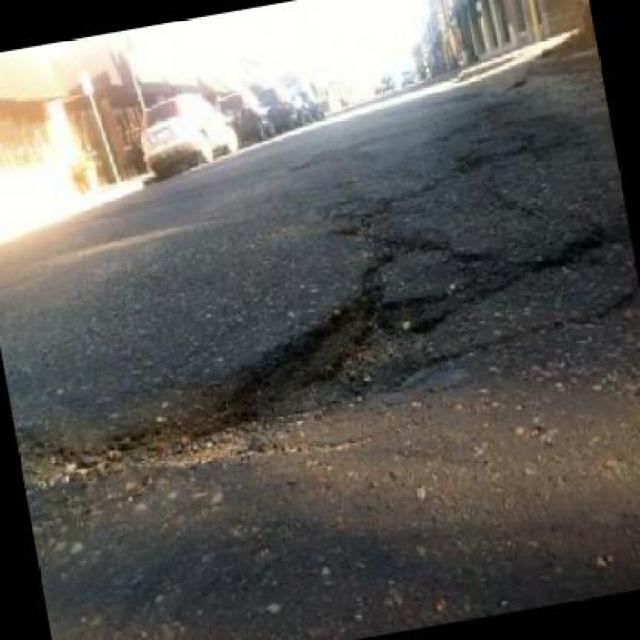pothole1: (122, 270, 456, 476), (18, 426, 125, 494)
